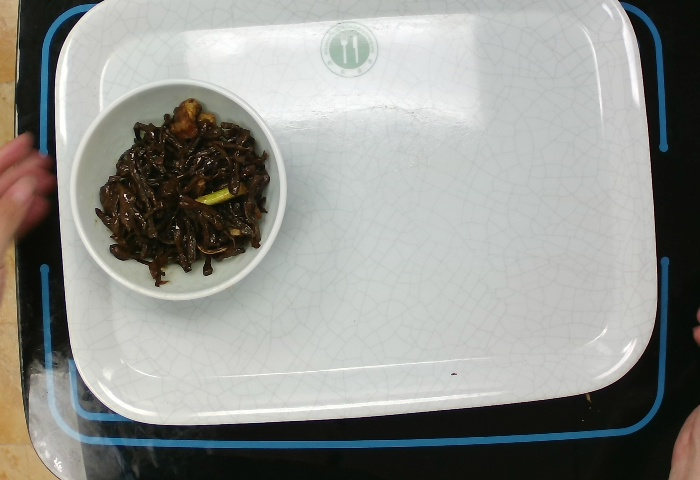JYsf-Fan_Wan: (61, 73, 292, 303)
